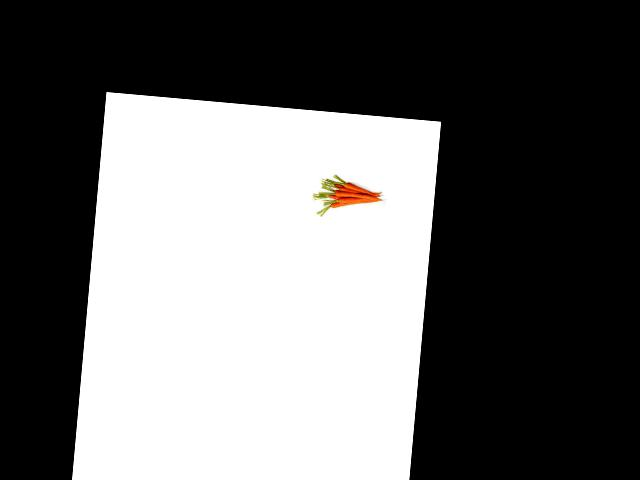carrot: (340, 179, 379, 199)
